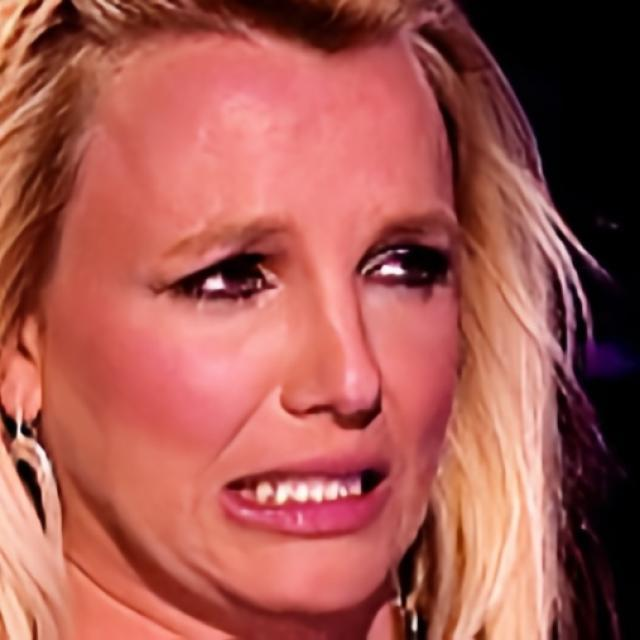sad: (51, 24, 463, 614)
